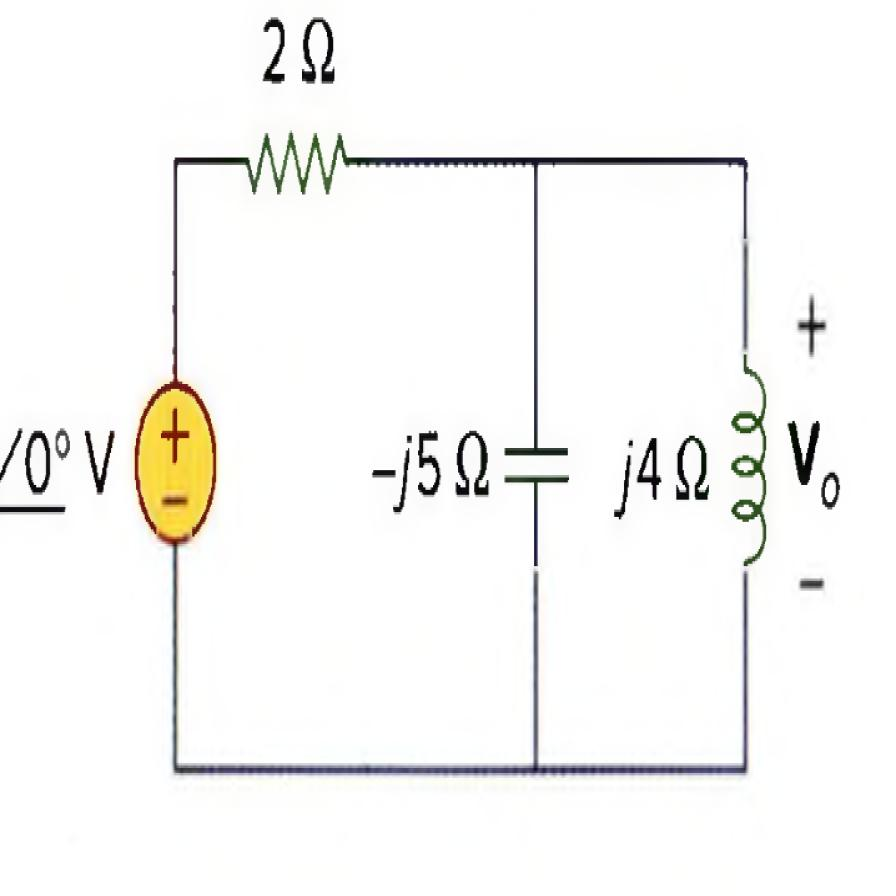C2: (497, 409, 577, 511)
L2: (718, 342, 773, 591)
R1: (230, 105, 368, 227)
V1: (125, 373, 228, 565)
